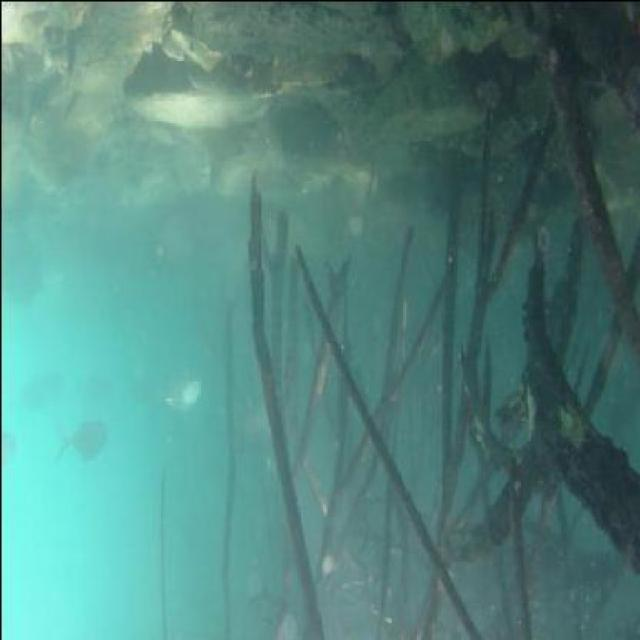Caranx_sexfasciatus_juvenile: (51, 409, 109, 466), (160, 364, 203, 418), (22, 361, 62, 412)
